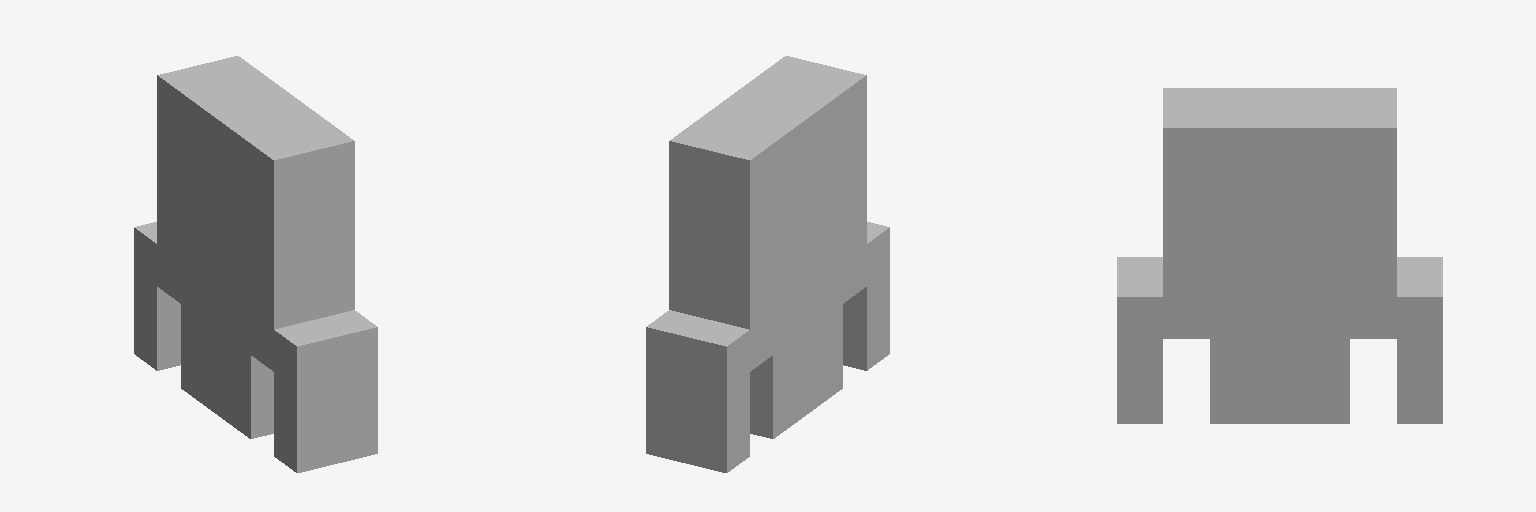
Rendered from player_torso_s-02.obj.
3 renders of one model, left to right at view 1: azimuth 30°, elevation 25°; view 2: azimuth 150°, elevation 25°; view 3: azimuth 270°, elevation 25°, orthographic.
Size of the model in its own units: 2 by 7 by 7.